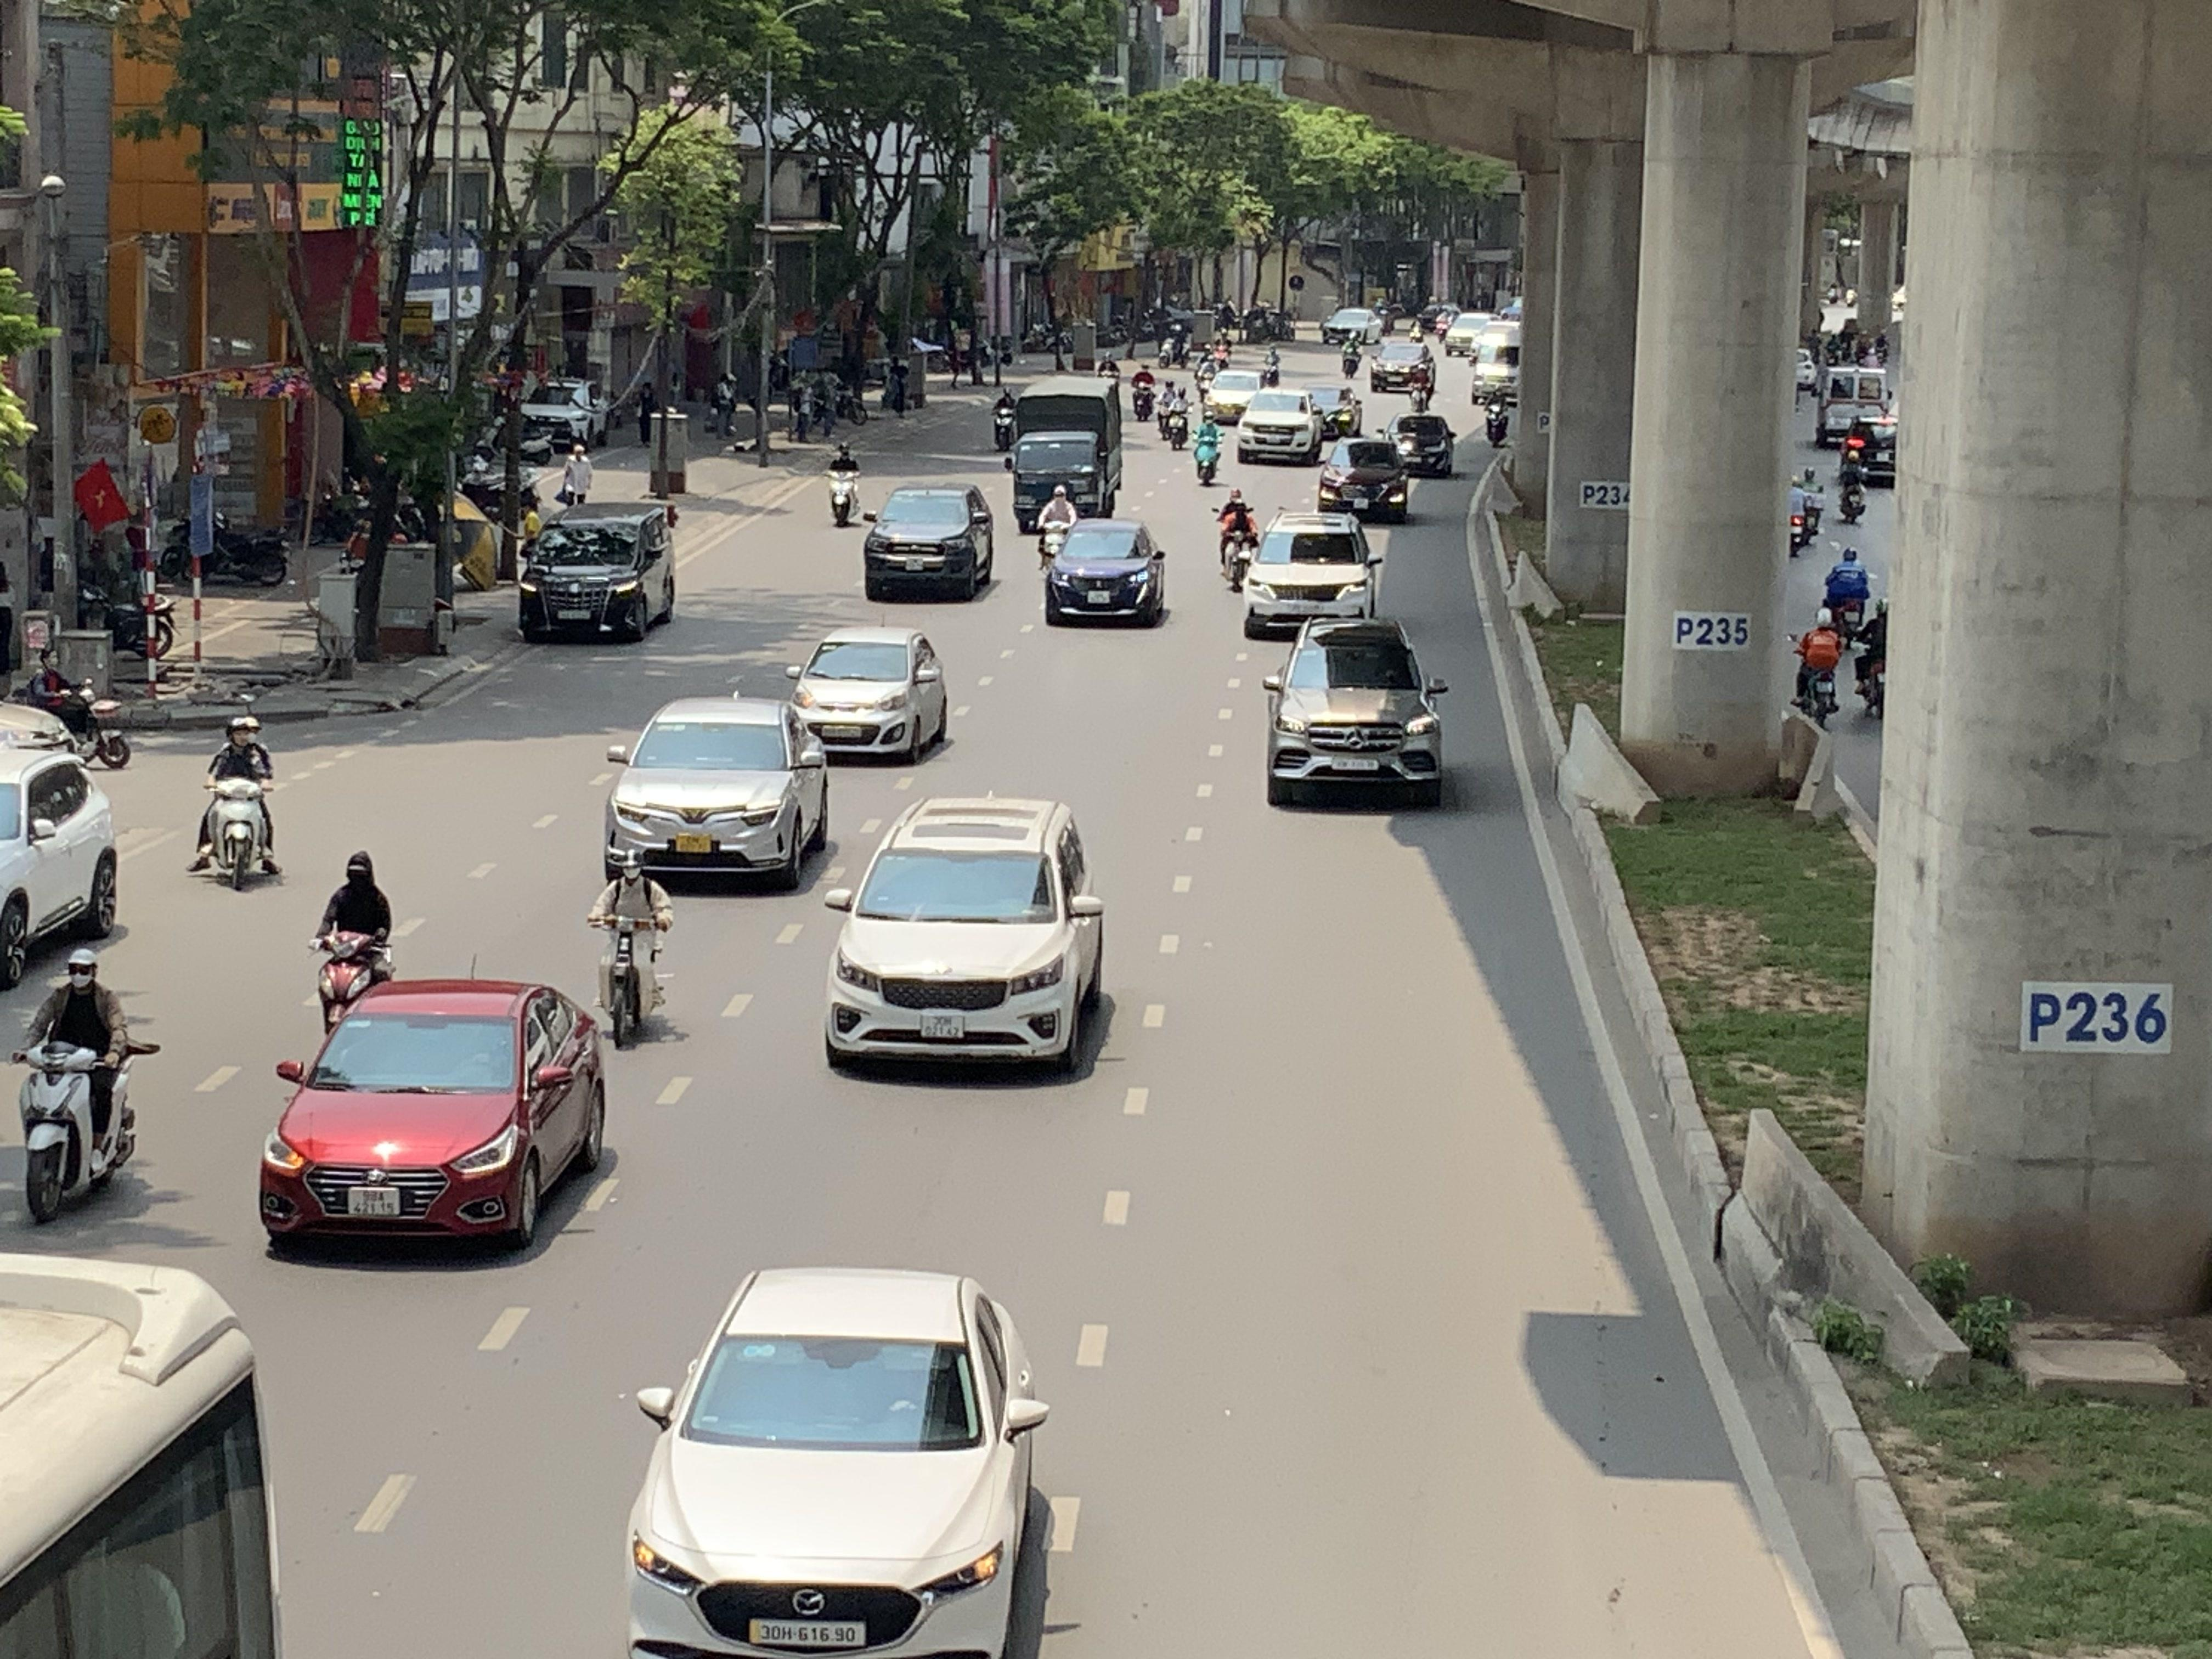BSD: (751, 1619, 866, 1647)
BSV: (350, 1187, 399, 1216), (921, 1012, 965, 1039)
bus: (0, 1249, 291, 1659)
car: (625, 1265, 1055, 1659), (258, 976, 611, 1258), (822, 795, 1115, 1080), (603, 695, 833, 890), (1261, 617, 1449, 809), (0, 739, 122, 993), (516, 502, 679, 643), (786, 627, 951, 765), (1242, 512, 1385, 638), (862, 483, 995, 601), (1042, 518, 1169, 627), (1317, 436, 1413, 523), (1235, 387, 1324, 464), (1386, 410, 1456, 474), (1200, 368, 1270, 425), (1369, 336, 1433, 392)
motorbike: (14, 946, 155, 1227), (589, 847, 672, 1049), (192, 716, 280, 890), (7, 645, 131, 769), (312, 850, 395, 1033), (1791, 603, 1844, 728), (1820, 545, 1876, 640), (1216, 486, 1263, 591), (1851, 587, 1886, 716), (1785, 464, 1824, 556), (1036, 483, 1078, 563), (827, 441, 862, 526), (1834, 444, 1869, 525), (1157, 380, 1190, 451), (1191, 415, 1223, 486), (1130, 361, 1158, 423)
truck: (1005, 373, 1125, 526)
